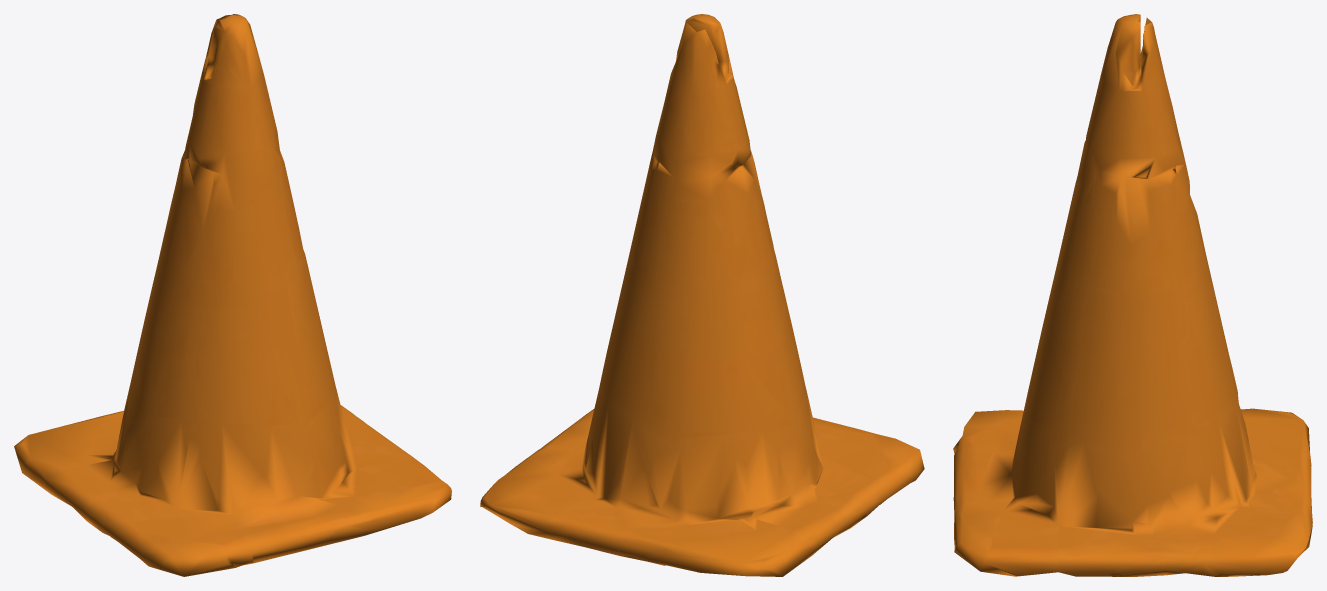
Rendered from prop_cone.glb.
The picture shows the model from 3 angles, left to right: view 1: azimuth 30°, elevation 25°; view 2: azimuth 150°, elevation 25°; view 3: azimuth 270°, elevation 25°; orthographic projection. The views are drawn at different scales.
Parts seen in each view (by area): view 1: tripo_node_97af23f7-68c7-45db-9e68-467ac4adb985; view 2: tripo_node_97af23f7-68c7-45db-9e68-467ac4adb985; view 3: tripo_node_97af23f7-68c7-45db-9e68-467ac4adb985.
Part boxes in pixels (x1,y1,x2,y2): tripo_node_97af23f7-68c7-45db-9e68-467ac4adb985: [14, 14, 451, 576]; tripo_node_97af23f7-68c7-45db-9e68-467ac4adb985: [480, 14, 924, 576]; tripo_node_97af23f7-68c7-45db-9e68-467ac4adb985: [953, 14, 1312, 576].
Size of the model in its own units: 0.6552 by 0.9813 by 0.6583.
Materials: 1 (1 with a texture image).
